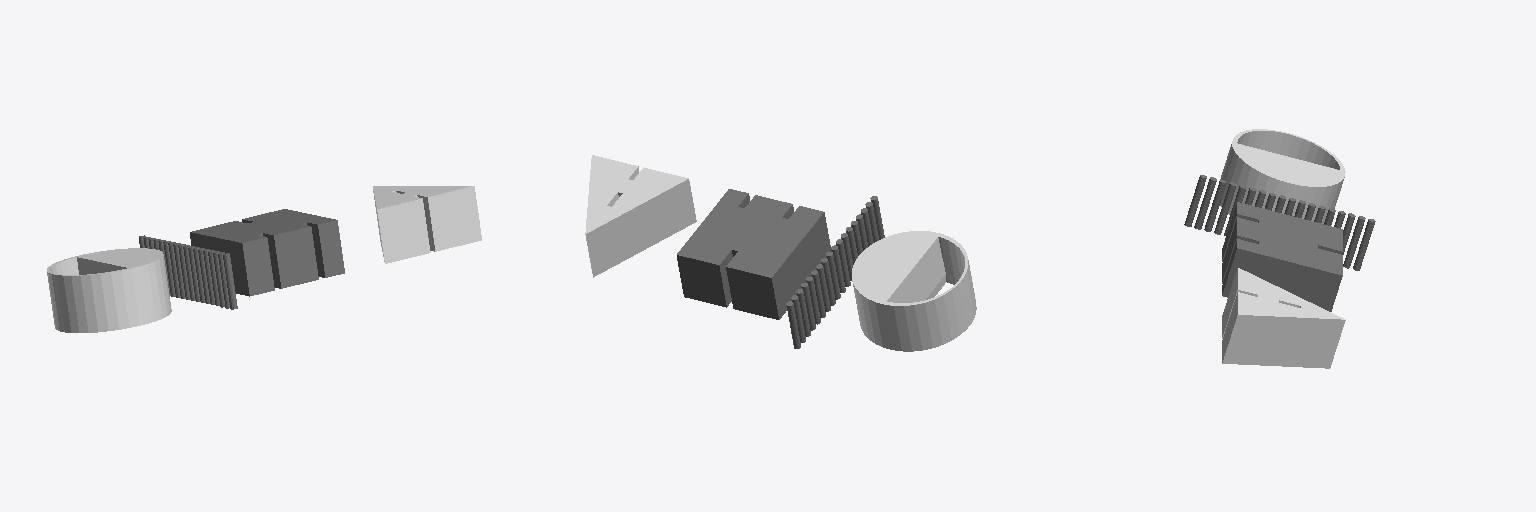
The model's file is dma3.obj.
3 views of the same model, side by side, from view 1: azimuth 30°, elevation 25°; view 2: azimuth 150°, elevation 25°; view 3: azimuth 270°, elevation 25° (orthographic).
Parts seen in each view (by area): view 1: group1 polySurface8, polySurface3 group1, group1 polySurface5, group1 pCylinder2 pCylinder3 pCylinder4 pCylinder5 pCylinder6 pC; view 2: polySurface3 group1, group1 polySurface8, group1 polySurface5, group1 pCylinder2 pCylinder3 pCylinder4 pCylinder5 pCylinder6 pC; view 3: polySurface3 group1, group1 polySurface5, group1 polySurface8, group1 pCylinder2 pCylinder3 pCylinder4 pCylinder5 pCylinder6 pC.
Part boxes in pixels (bbox=[...]): group1 polySurface8: bbox=[47, 248, 171, 332]; polySurface3 group1: bbox=[190, 209, 344, 296]; group1 polySurface5: bbox=[373, 186, 481, 263]; group1 pCylinder2 pCylinder3 pCylinder4 pCylinder5 pCylinder6 pC: bbox=[139, 235, 237, 309]; polySurface3 group1: bbox=[677, 189, 830, 319]; group1 polySurface8: bbox=[852, 231, 976, 351]; group1 polySurface5: bbox=[585, 155, 696, 277]; group1 pCylinder2 pCylinder3 pCylinder4 pCylinder5 pCylinder6 pC: bbox=[786, 196, 884, 348]; polySurface3 group1: bbox=[1222, 202, 1342, 311]; group1 polySurface5: bbox=[1222, 268, 1345, 368]; group1 polySurface8: bbox=[1220, 129, 1345, 223]; group1 pCylinder2 pCylinder3 pCylinder4 pCylinder5 pCylinder6 pC: bbox=[1184, 175, 1375, 270].
Bounding box in the file's own units: 24.32 × 5.58 × 10.2.